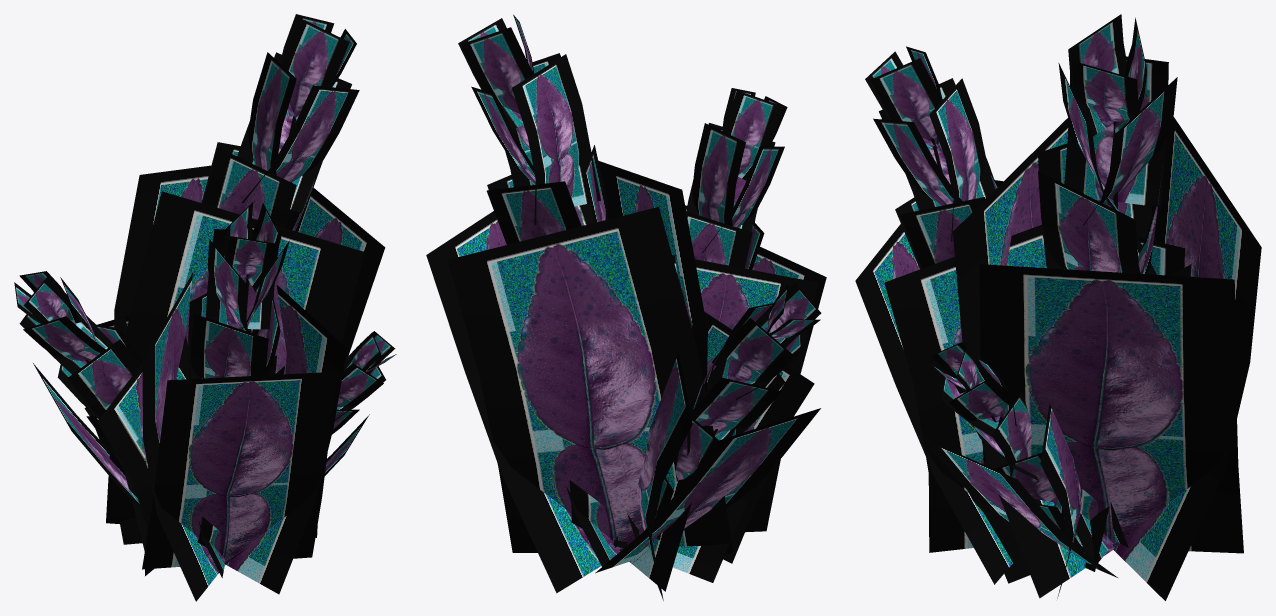
File: plante_2_3.FBX
3 renders of one model, left to right at view 1: azimuth 30°, elevation 25°; view 2: azimuth 150°, elevation 25°; view 3: azimuth 270°, elevation 25°, orthographic. The views are drawn at different scales.
Parts seen in each view (by area): view 1: plane; view 2: plane; view 3: plane.
Part boxes in pixels (x1,y1,x2,y2): plane: (14,14,396,601); plane: (426,14,826,600); plane: (855,14,1261,600).
Bounding box in the file's own units: 206 × 295 × 177.
1 material, 1 textured.
